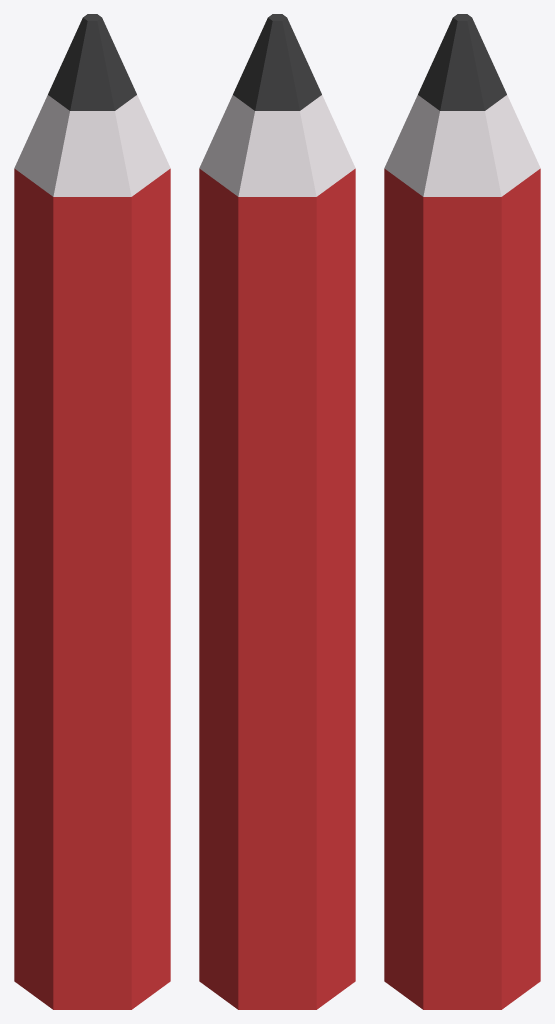
File: Pencils.fbx
3 renders of one model, left to right at view 1: azimuth 30°, elevation 25°; view 2: azimuth 150°, elevation 25°; view 3: azimuth 270°, elevation 25°, orthographic.
Visible parts, largest first — view 1: Pencil; view 2: Pencil; view 3: Pencil.
Boxes of the visible parts, left/top/right/bottom form: Pencil: left=14, top=14, right=170, bottom=1009; Pencil: left=199, top=14, right=355, bottom=1009; Pencil: left=384, top=14, right=540, bottom=1009.
Bounding box in the file's own units: 129 × 1009 × 148.
